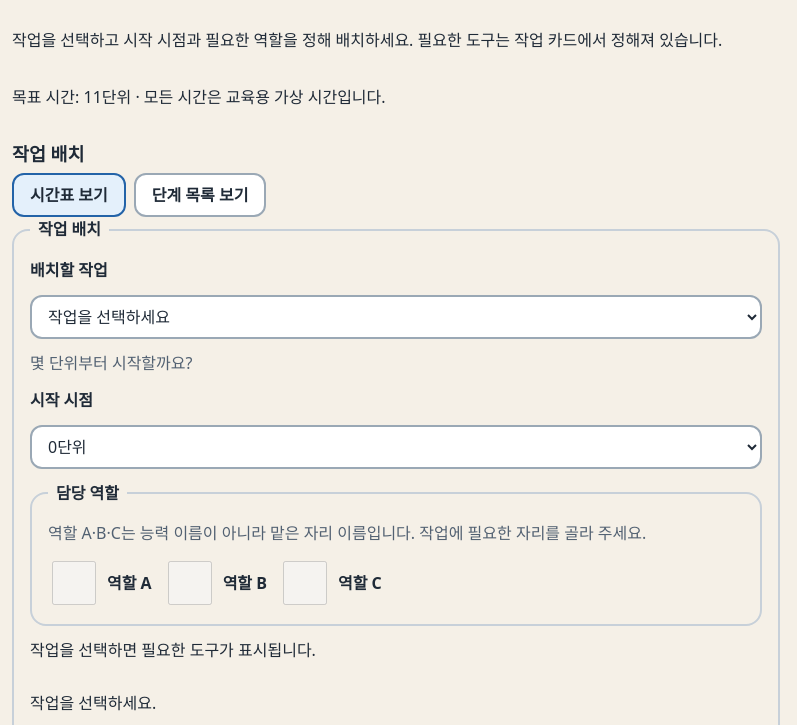
keyboard-first schedule editor › starts with the grid on a desktop viewport and switches back to the step list
This screenshot has width=797, height=725.
Click the button "단계 목록 보기".
click(200, 195)  # box x1=134 y1=173 x2=266 y2=217
(page scrolled)
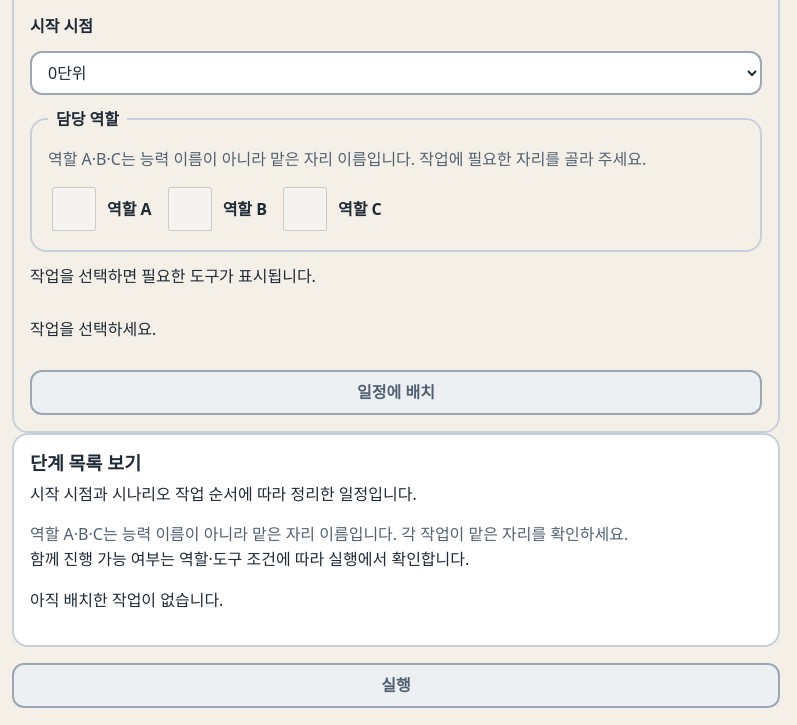
Expected: the heading "단계 목록 보기" is shown, x1=30 y1=450 x2=141 y2=474
